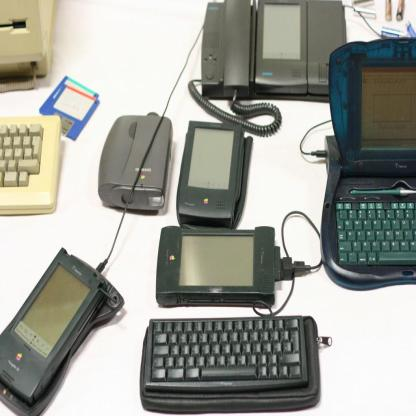board: (320, 41, 416, 292)
